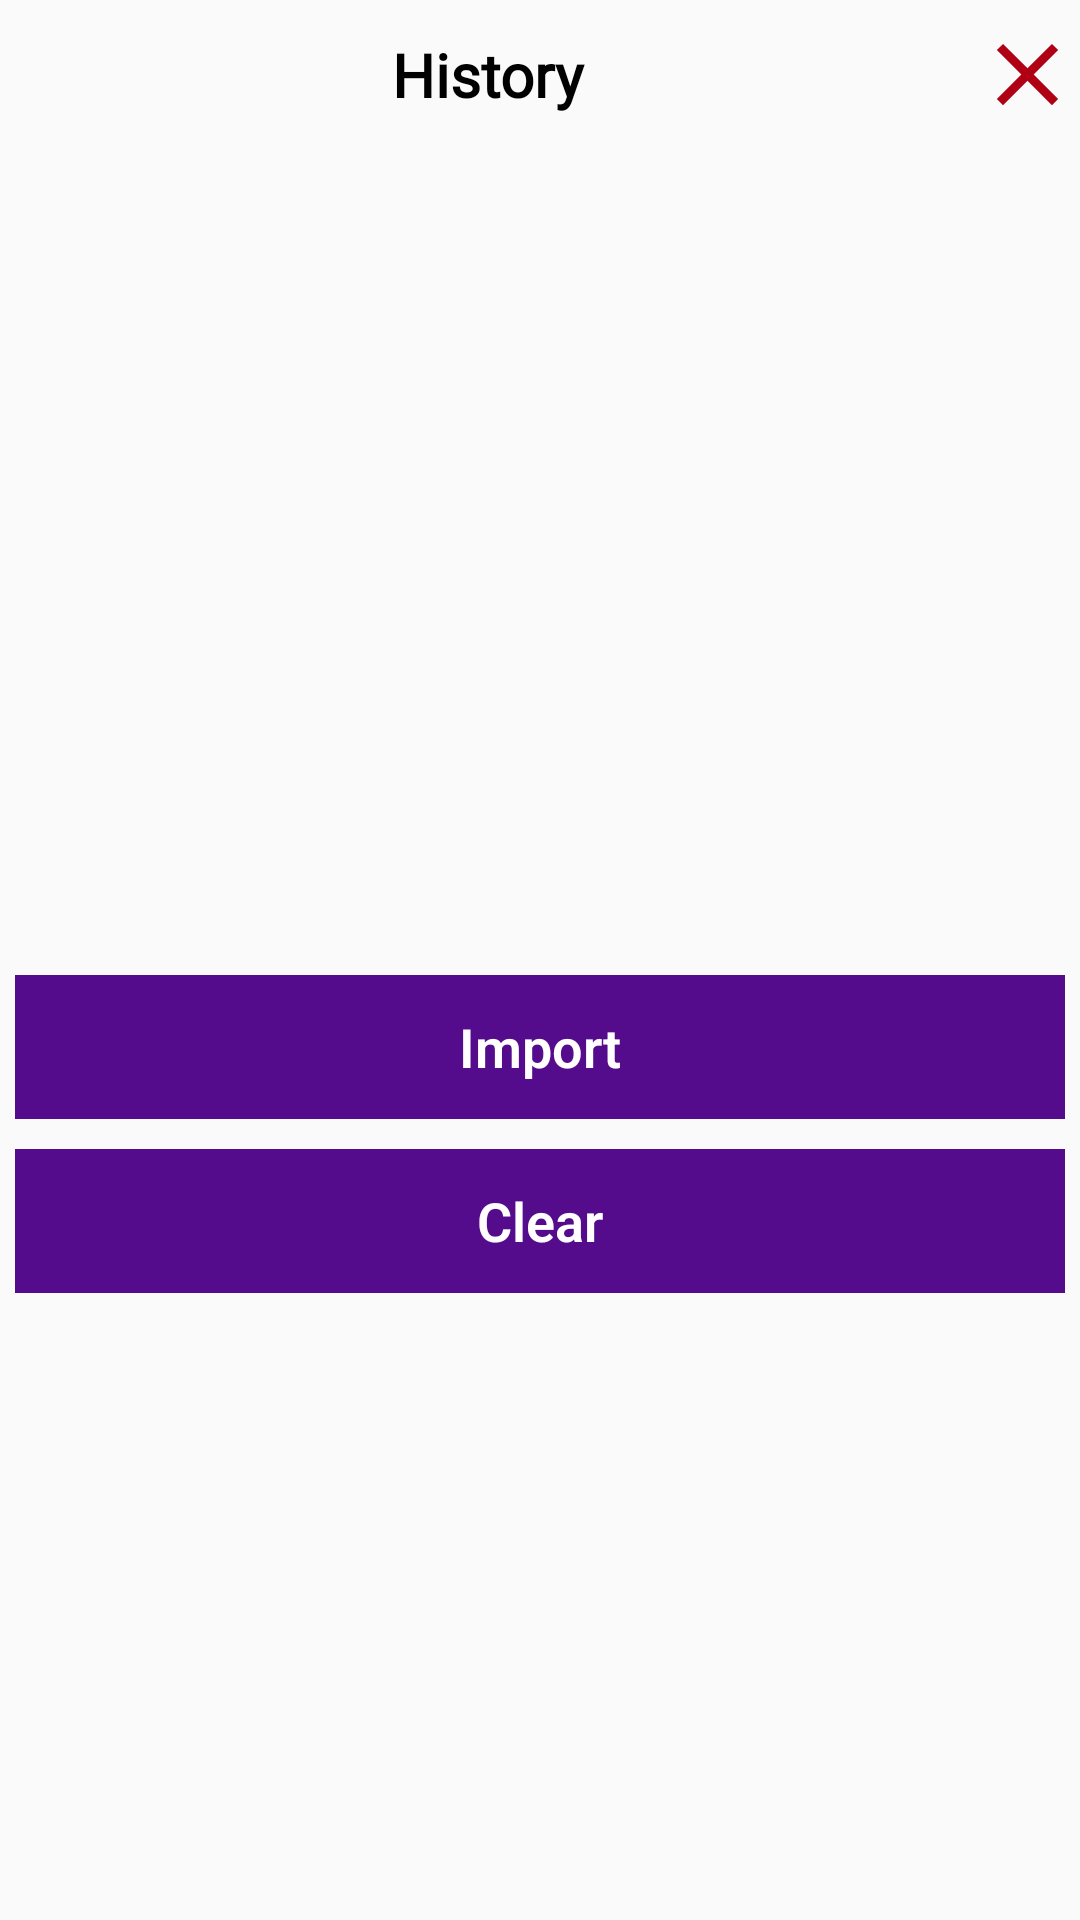

Icons on this 1080px x 1920px Android screen, each with its box as bbox=(x1, y1, x2, y2):
wrong: bbox=(997, 44, 1058, 105)
